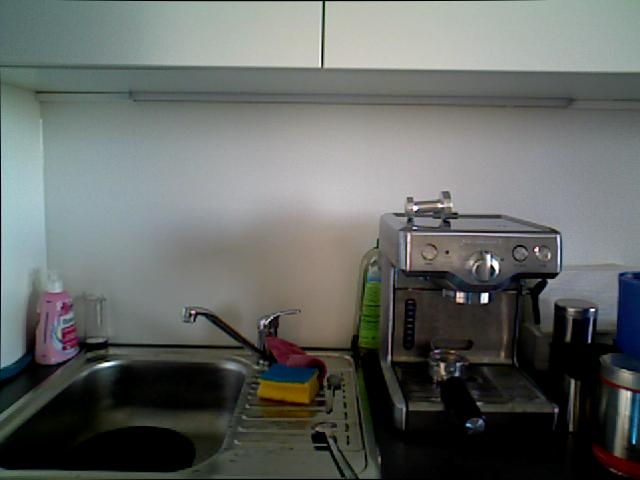bench: (348, 237, 391, 364), (30, 262, 79, 366)
couch: (0, 351, 253, 476)
toilet: (302, 412, 372, 480), (321, 368, 347, 414)
